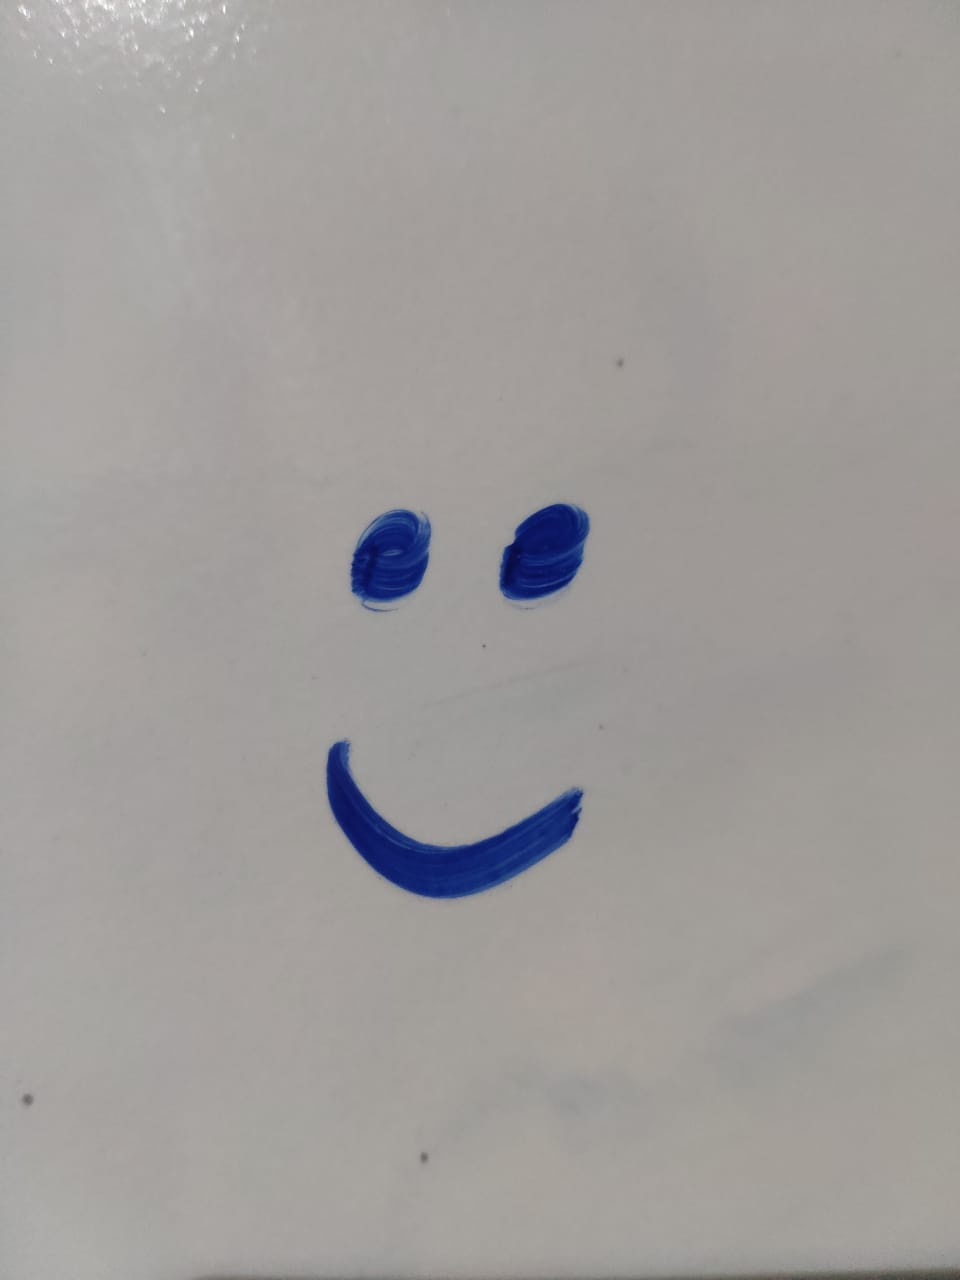feliz: (273, 472, 696, 921)
